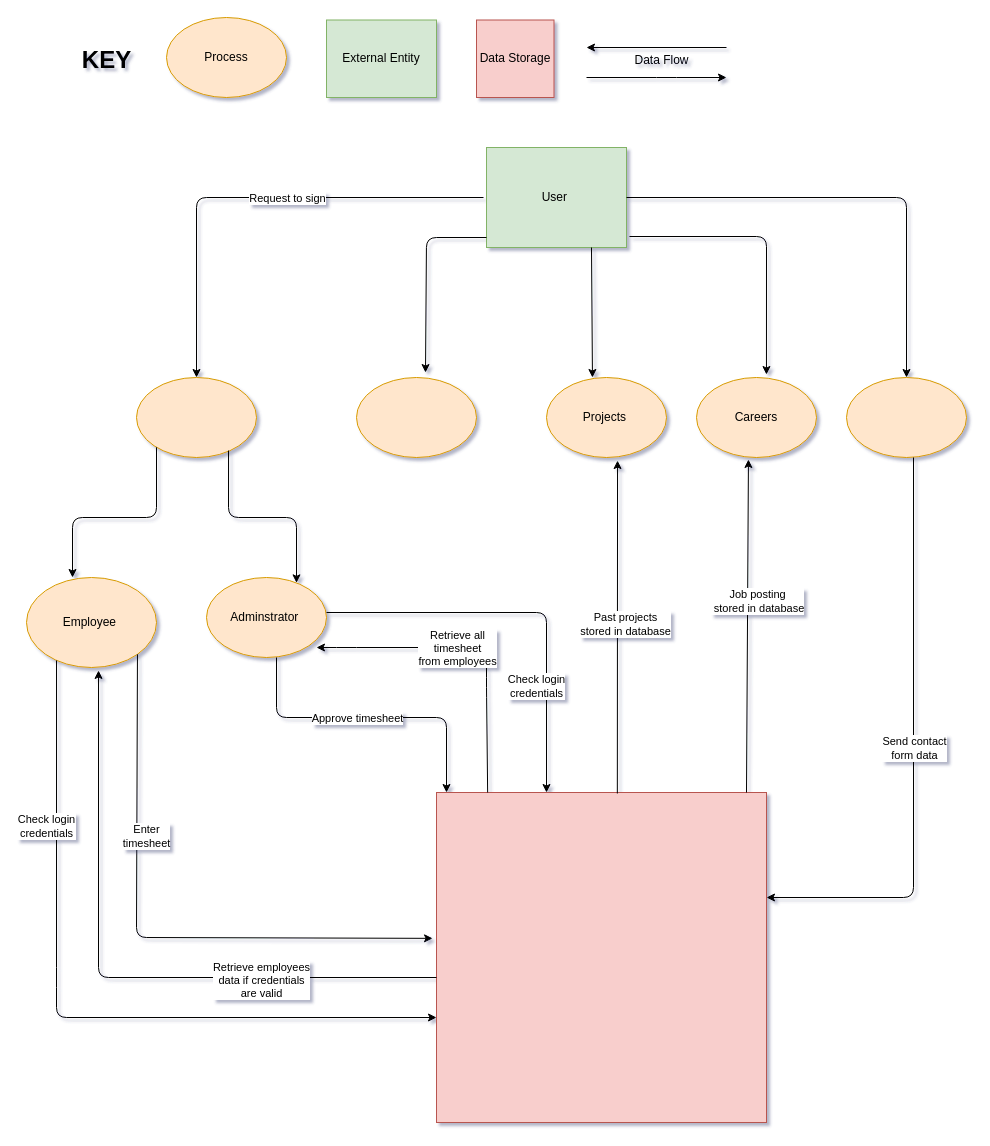
Some shapes in this 990 by 1146 pixel diagram are drawn without their labels. Here are the shapes that lost their labels. From the top down, the centre of each, then its label:
the point at 196,417: User Login
the point at 416,417: About Us
the point at 906,417: Contact Us
the point at 601,957: PostgreSQL Database
